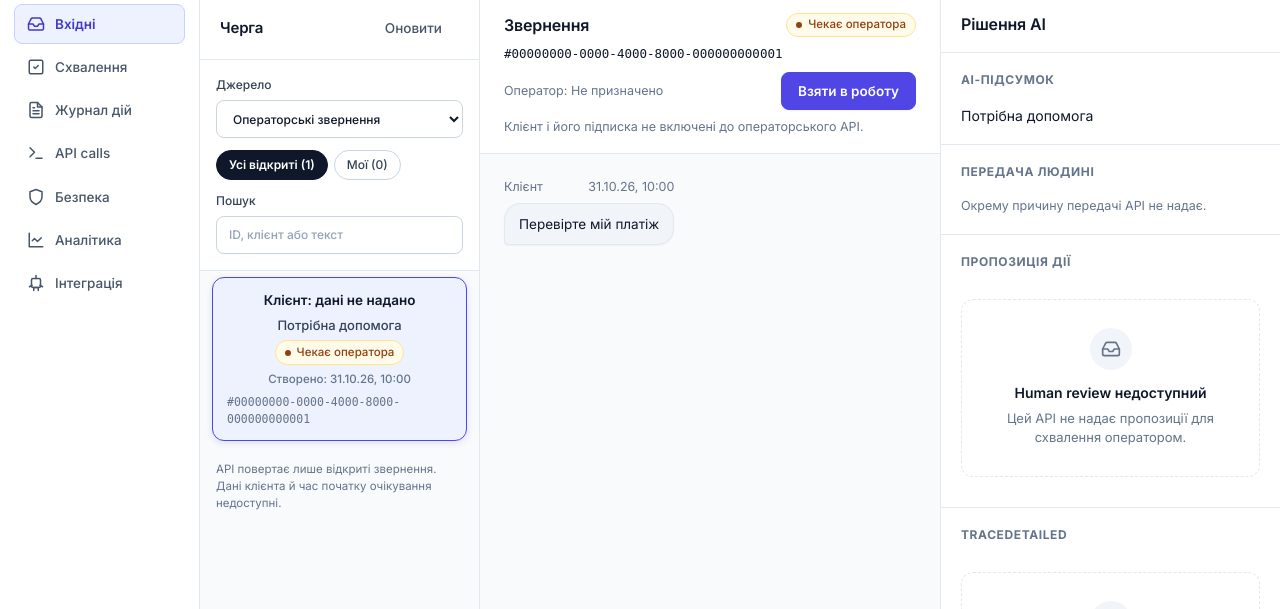
Scenario: claim is required before a support reply; a second click cannot post twice
Click the button "Взяти в роботу". click: (848, 91)
box: [781,72,916,110]
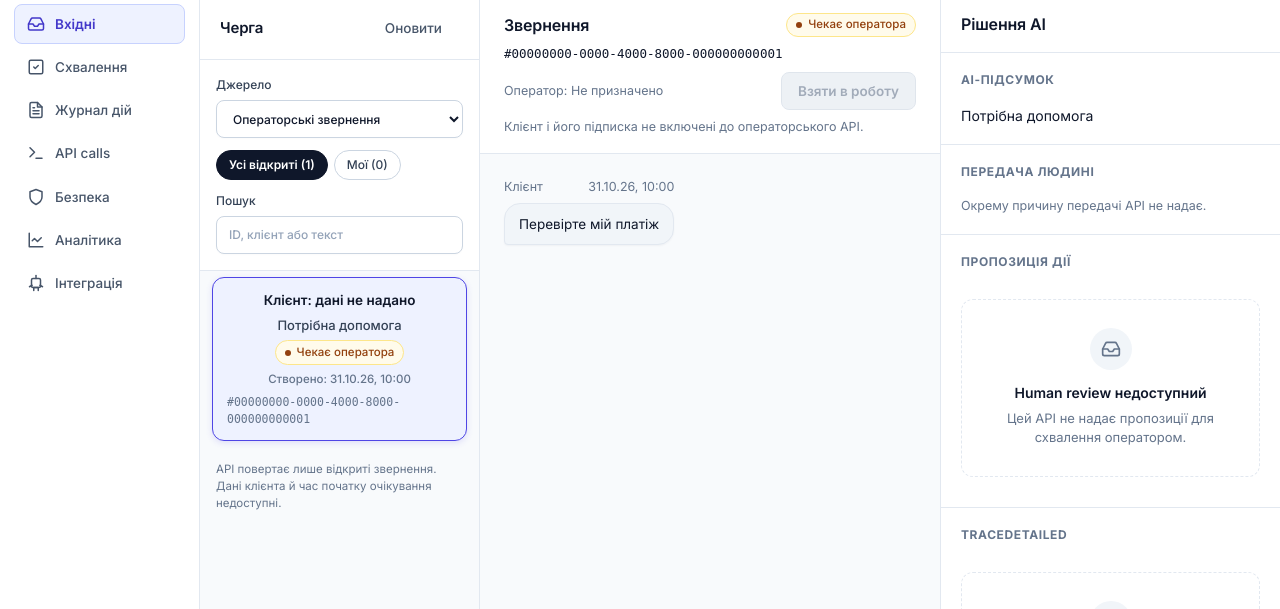
Click the button "Взяти в роботу". click: (848, 91)
box: [781,72,916,110]
(page scrolled)
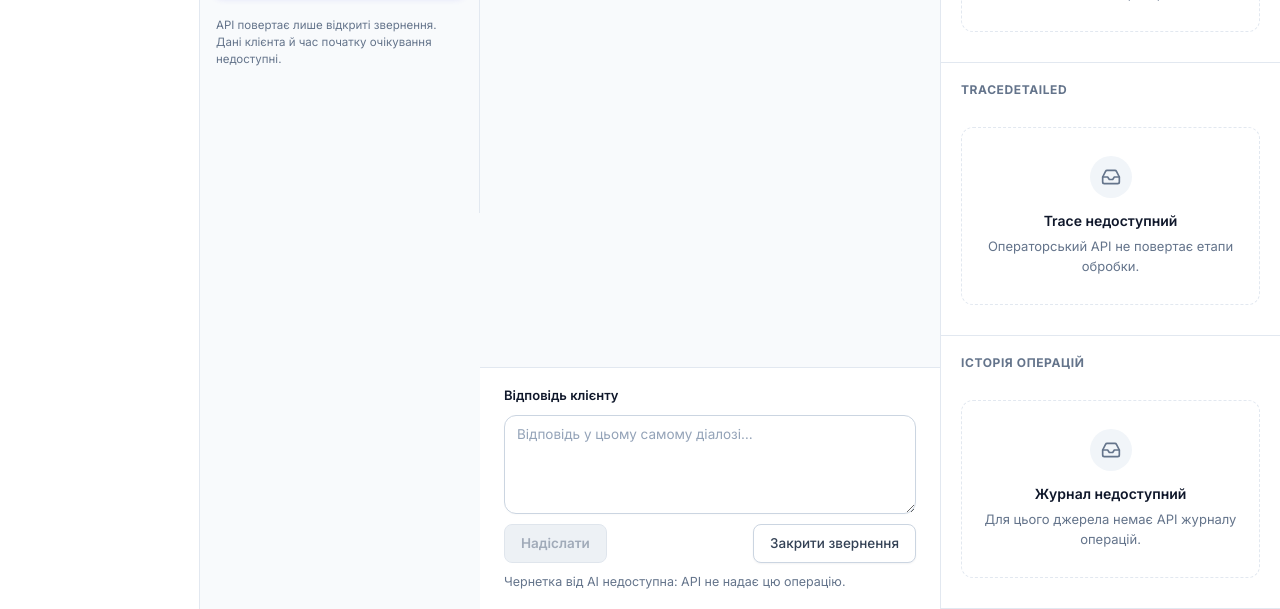
Expected: the text box labelled "Відповідь клієнту" is enabled, [504,415,916,514]
